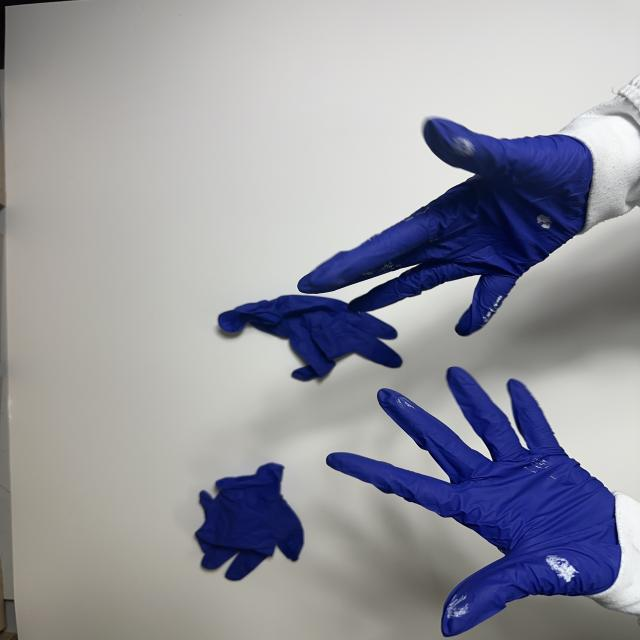gloves_contaminated: (327, 367, 621, 636), (298, 119, 594, 335)
